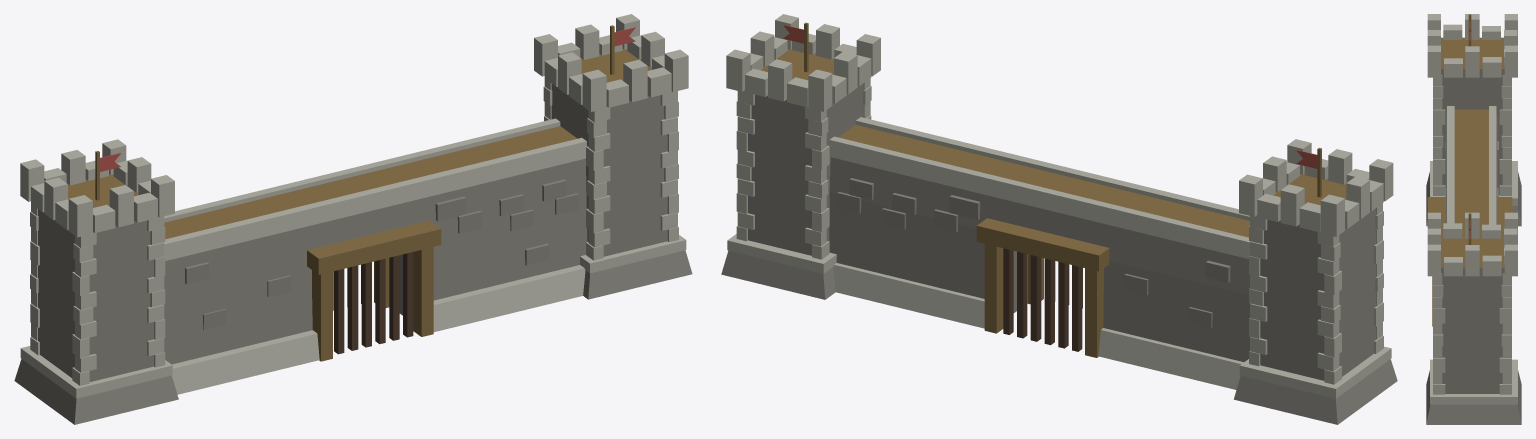
The model's file is WallTowers_DoorClosed_SecondAge.glb.
The picture shows the model from 3 angles, left to right: view 1: azimuth 30°, elevation 25°; view 2: azimuth 150°, elevation 25°; view 3: azimuth 270°, elevation 25°; orthographic projection. The views are drawn at different scales.
Visible parts, largest first — view 1: WallTowers_DoorClosed_SecondAge; view 2: WallTowers_DoorClosed_SecondAge; view 3: WallTowers_DoorClosed_SecondAge.
Boxes of the visible parts, left/top/right/bottom form: WallTowers_DoorClosed_SecondAge: left=14, top=14, right=692, bottom=424; WallTowers_DoorClosed_SecondAge: left=721, top=14, right=1397, bottom=424; WallTowers_DoorClosed_SecondAge: left=1426, top=14, right=1521, bottom=424.
Size of the model in its own units: 1.98 by 0.7371 by 0.3333.
1 material, 1 textured.
